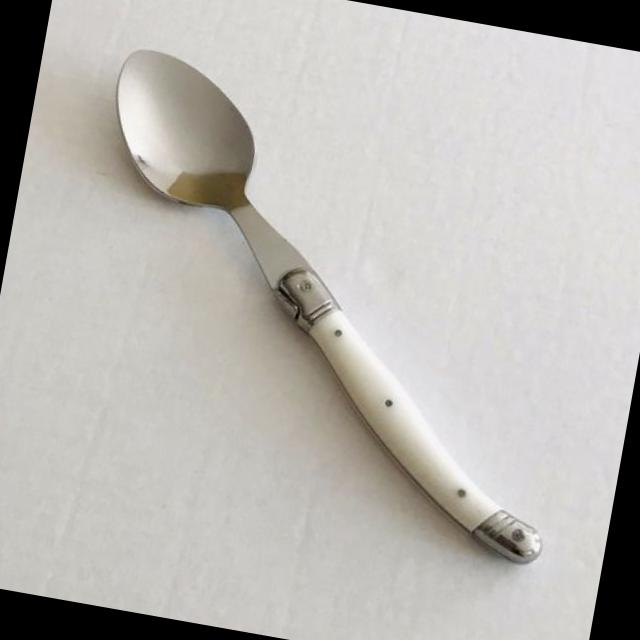spoon: (38, 39, 620, 592)
